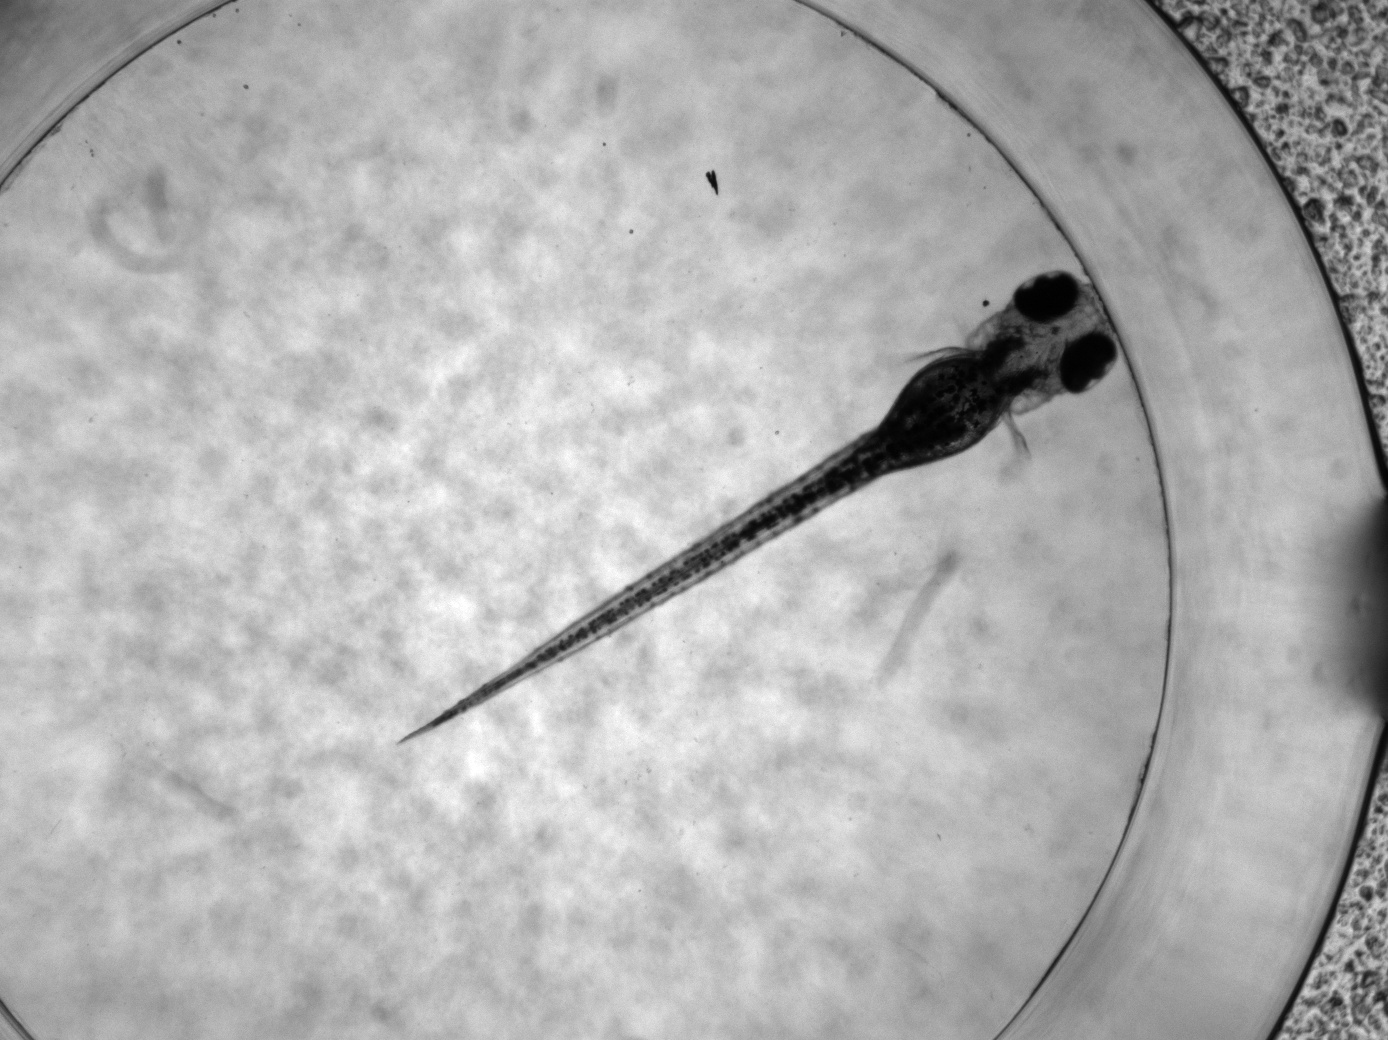embryo: (388, 269, 1118, 749)
eye: (1058, 332, 1118, 395), (1013, 270, 1079, 323)
yolksac: (888, 354, 1007, 466)
